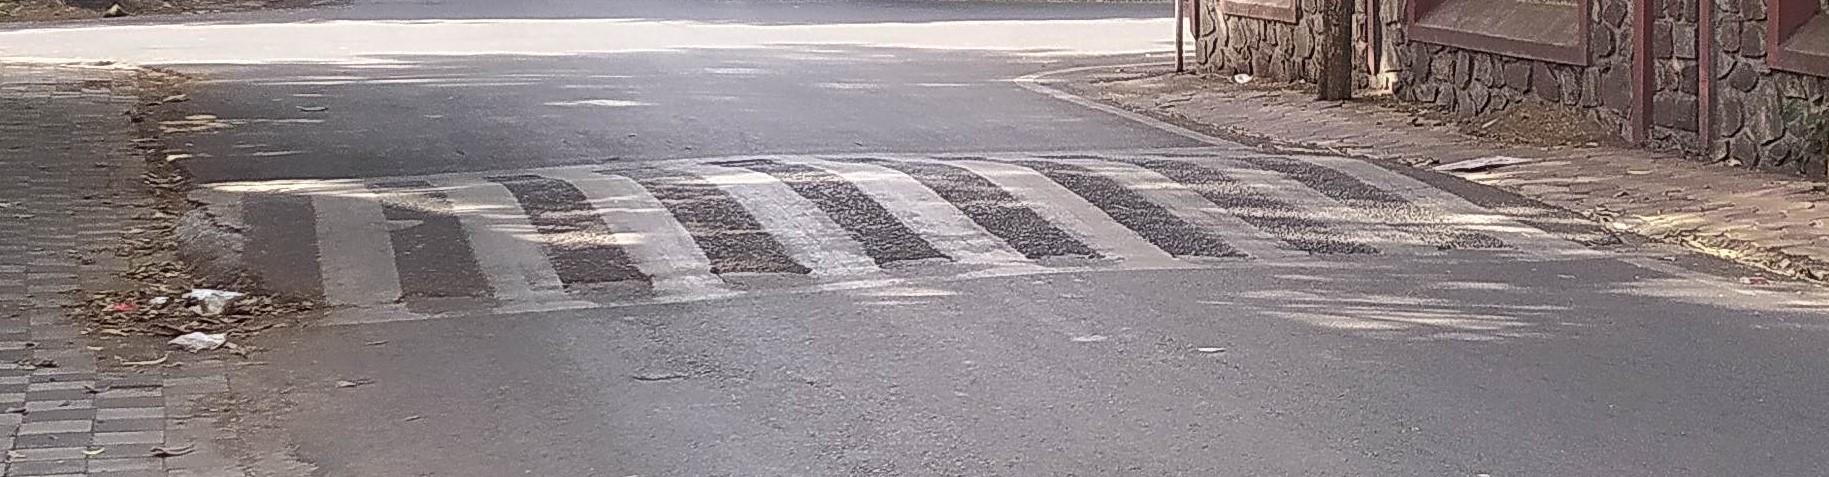speed-bump: (179, 147, 1605, 301)
